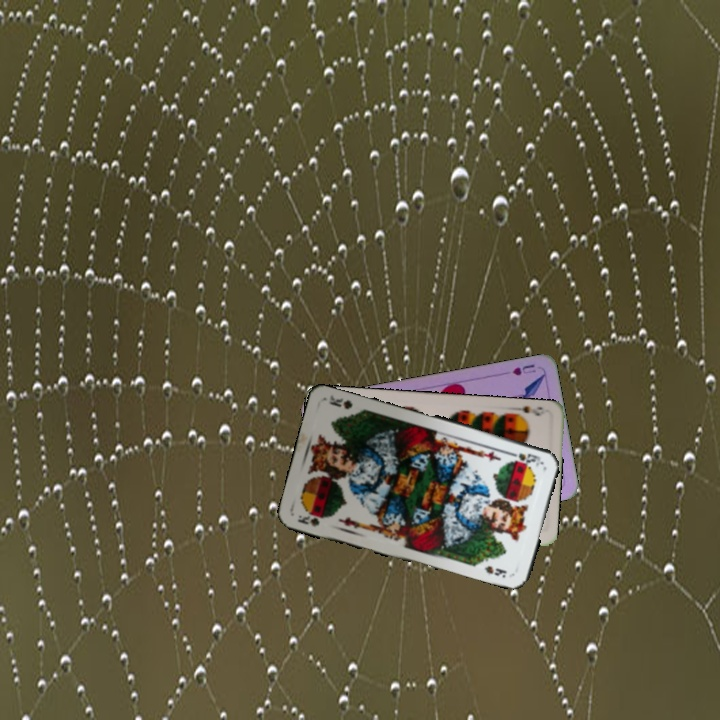HU: (508, 360, 538, 378)
S9: (508, 402, 548, 422)
SK: (504, 448, 544, 466), (293, 510, 327, 529)
